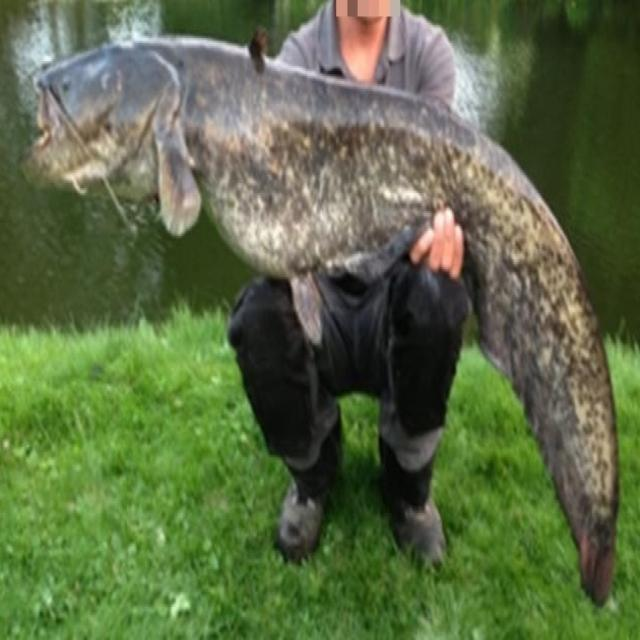Catfish: (21, 25, 640, 627)
